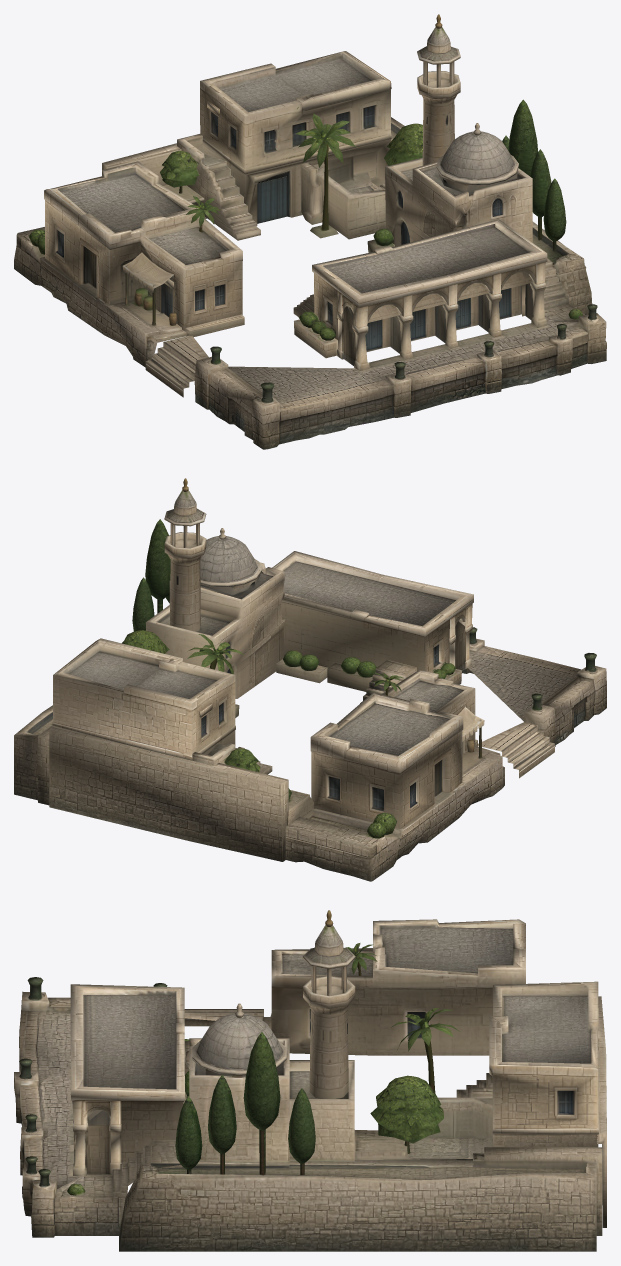
Rendered from statecraft-tiberias-smartmesh-textured-086ad55f.glb.
The picture shows the model from 3 angles, top to bottom: view 1: azimuth 30°, elevation 25°; view 2: azimuth 150°, elevation 25°; view 3: azimuth 270°, elevation 25°; orthographic projection. The views are drawn at different scales.
Visible parts, largest first — view 1: tripo_node_bb587937-a739-4c86-a977-cc1c958f6ffb; view 2: tripo_node_bb587937-a739-4c86-a977-cc1c958f6ffb; view 3: tripo_node_bb587937-a739-4c86-a977-cc1c958f6ffb.
Part boxes in pixels (left/top/right/bottom): tripo_node_bb587937-a739-4c86-a977-cc1c958f6ffb: left=14, top=14, right=606, bottom=449; tripo_node_bb587937-a739-4c86-a977-cc1c958f6ffb: left=14, top=478, right=606, bottom=881; tripo_node_bb587937-a739-4c86-a977-cc1c958f6ffb: left=14, top=910, right=606, bottom=1251.
Bounding box in the file's own units: 0.8823 × 0.5659 × 0.9995.
Materials: 1 (1 with a texture image).
